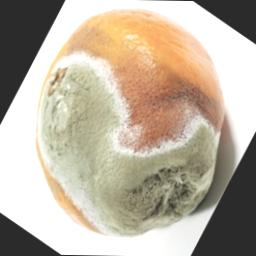Orange Rotten: (10, 0, 255, 256)
